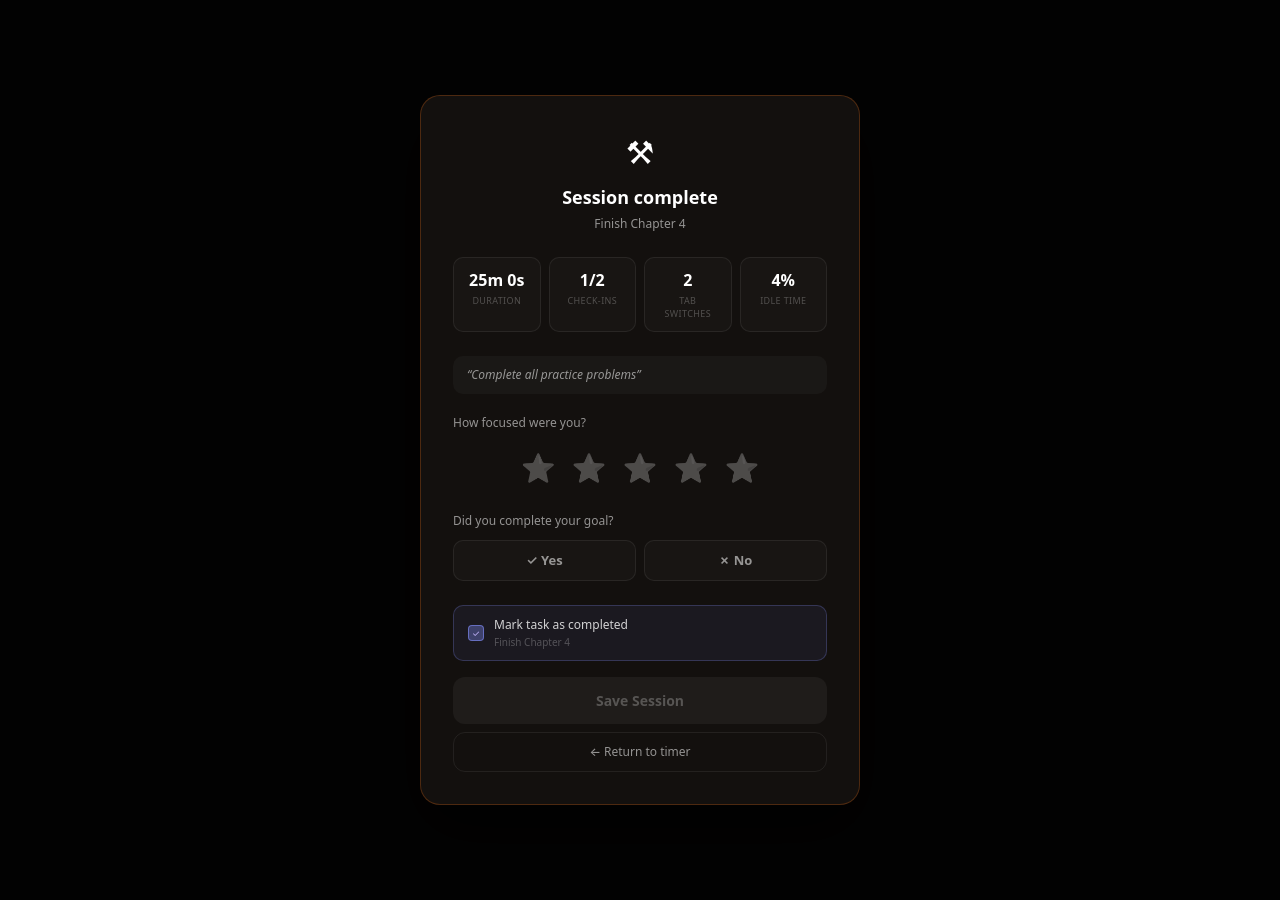
Test: PostSessionCard › submits the session and shows the saved state on success
Click the 5th button "⭐" at (742, 467), box top-left (720, 442), bottom-right (763, 492)
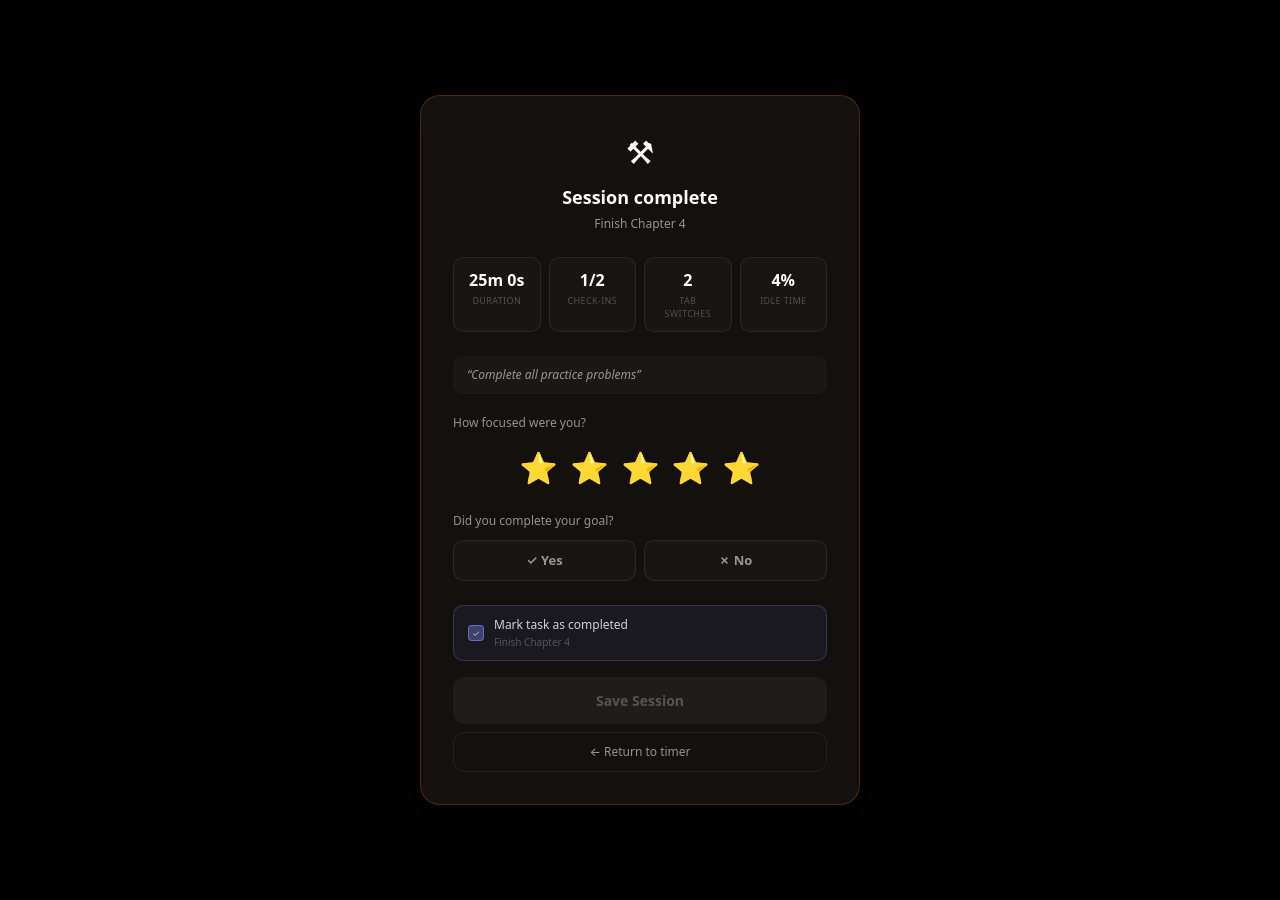
Click the button "✓ Yes" at (544, 561), box top-left (453, 540), bottom-right (636, 581)
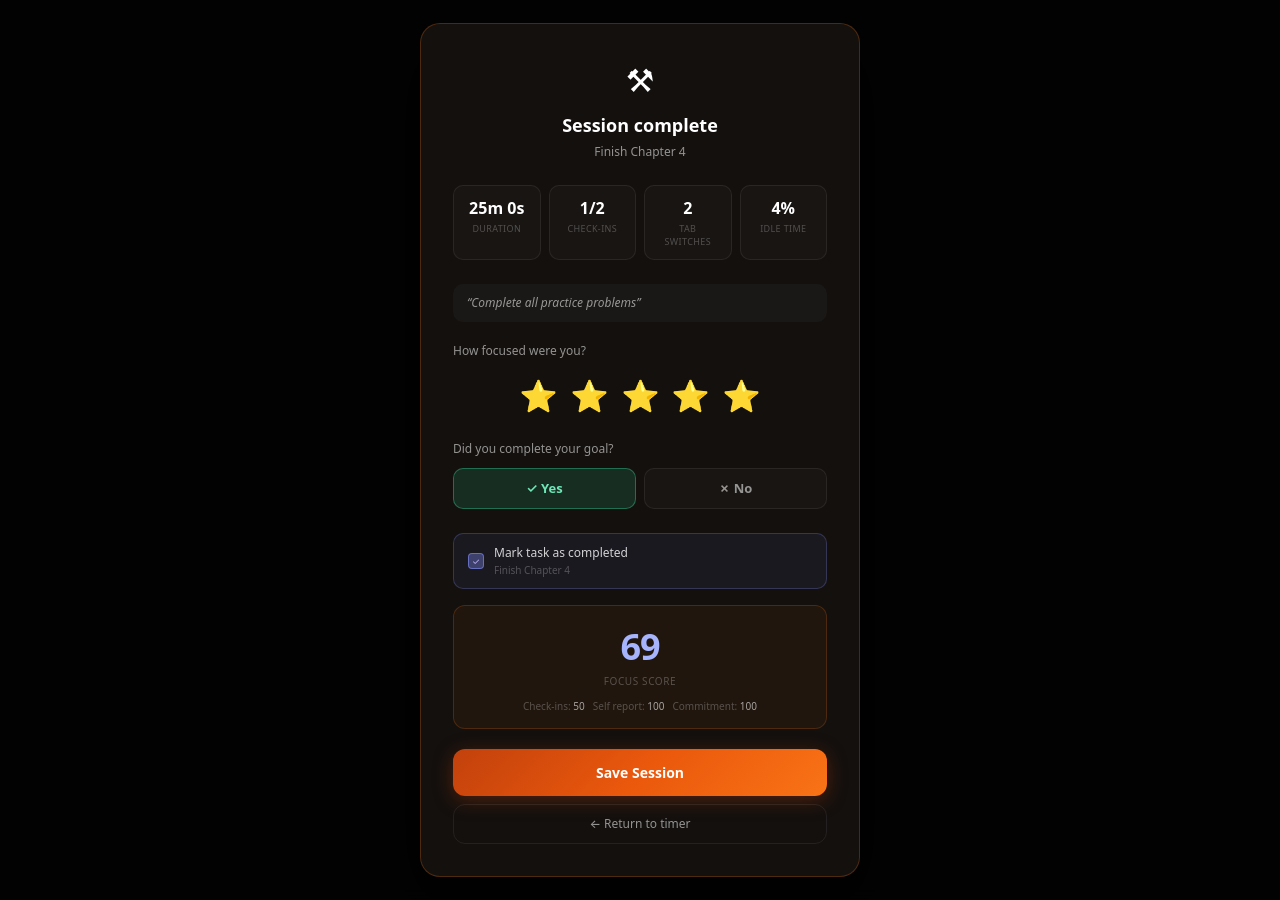
Click the button "Save Session" at (640, 773), box top-left (453, 749), bottom-right (827, 796)
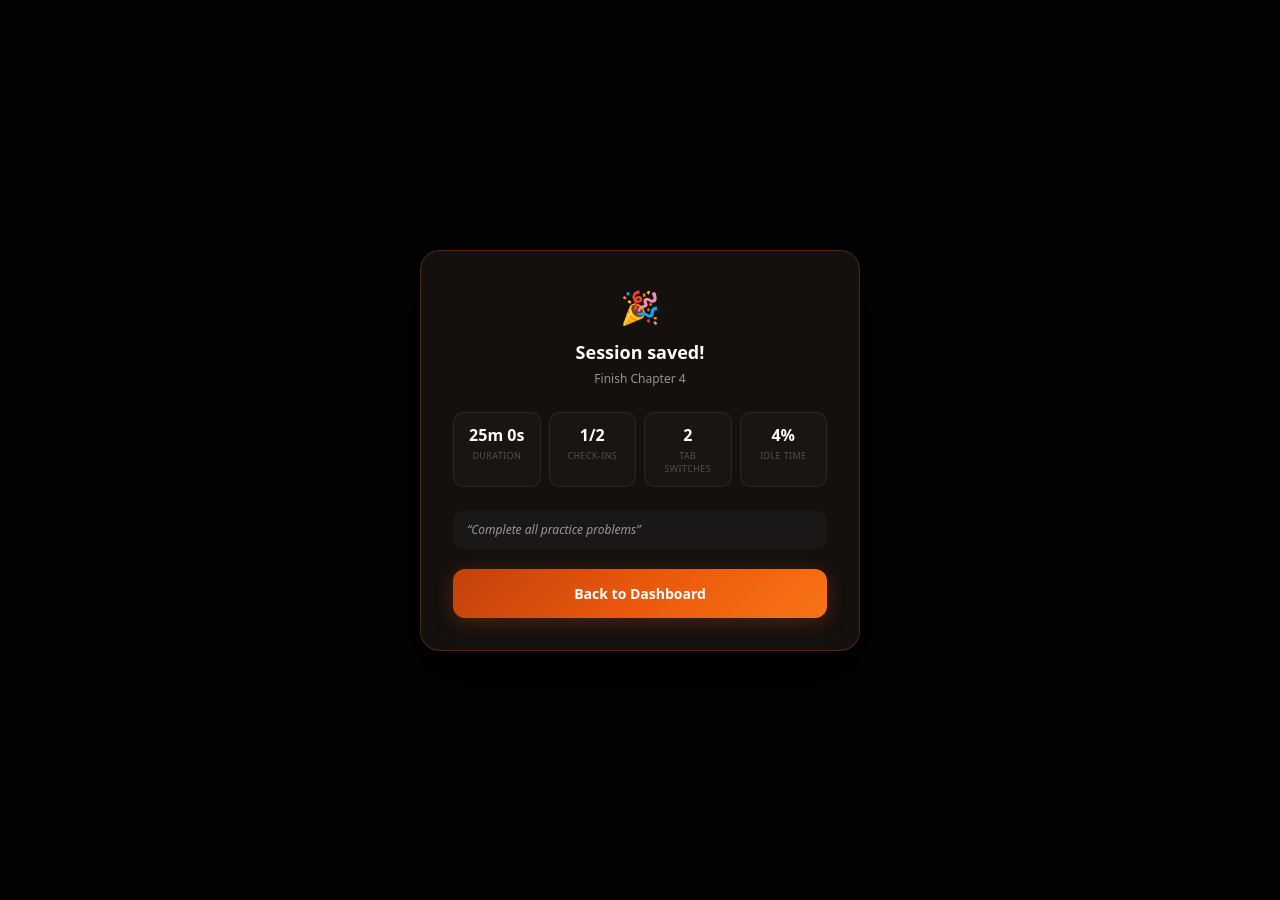
Expected: the heading "Session saved!" is shown, top-left (576, 340), bottom-right (704, 364)
